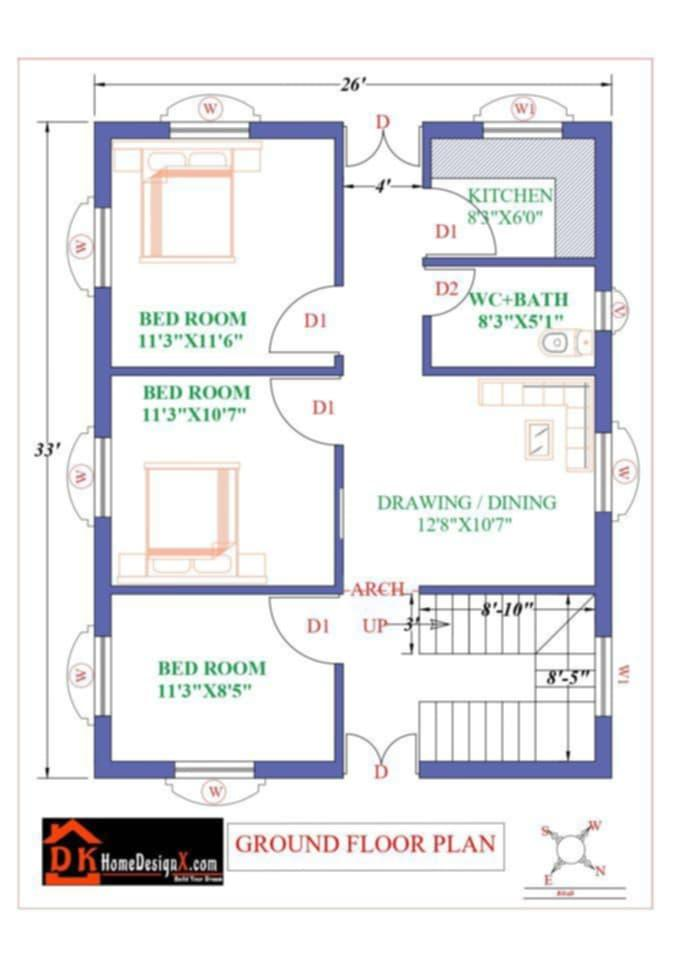Blueprint: (83, 108, 622, 787)
